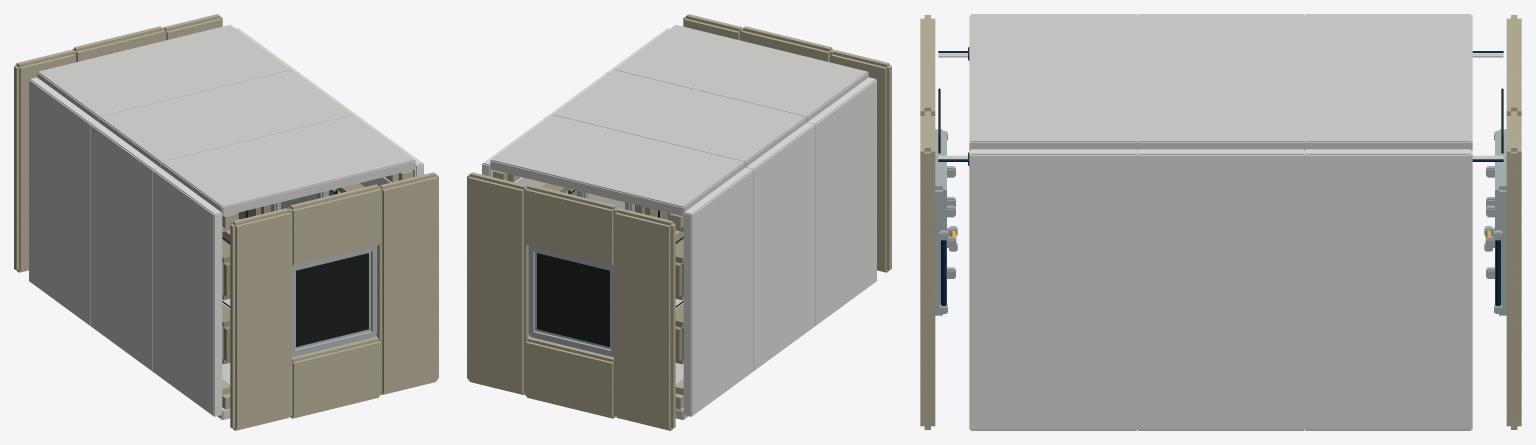
Rendered from unity_optimized.glb.
3 views of the same model, side by side, from view 1: azimuth 30°, elevation 25°; view 2: azimuth 150°, elevation 25°; view 3: azimuth 270°, elevation 25° (orthographic). The views are drawn at different scales.
Visible parts, largest first — view 1: unity_interior; view 2: unity_interior; view 3: unity_interior.
Part boxes in pixels (x1,y1,x2,y2): unity_interior: (14,14,438,430); unity_interior: (467,14,891,430); unity_interior: (920,14,1521,430).
Size of the model in its own units: 3.09 by 3 by 5.64.
Materials: 11 (3 with a texture image).
